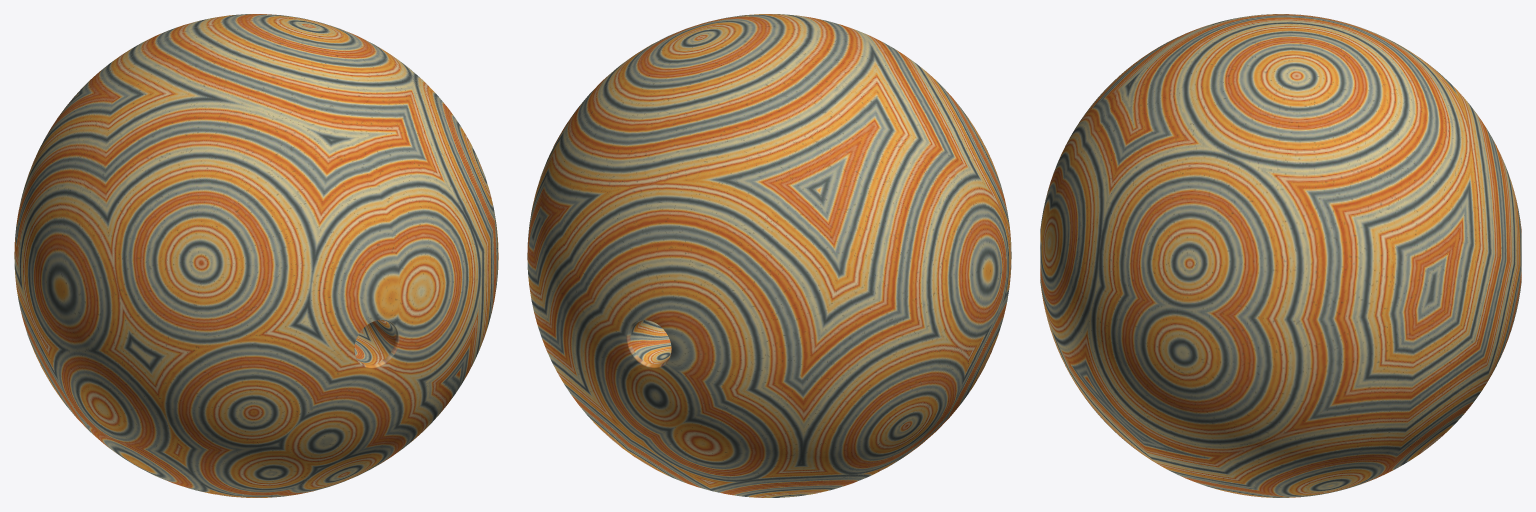
File: crazy-lace-agate-10mm.glb
3 renders of one model, left to right at view 1: azimuth 30°, elevation 25°; view 2: azimuth 150°, elevation 25°; view 3: azimuth 270°, elevation 25°, orthographic.
Visible parts, largest first — view 1: crazy-lace-agate.001; view 2: crazy-lace-agate.001; view 3: crazy-lace-agate.001.
Part boxes in pixels (bbox=[...]): crazy-lace-agate.001: bbox=[14, 14, 498, 497]; crazy-lace-agate.001: bbox=[527, 14, 1011, 497]; crazy-lace-agate.001: bbox=[1040, 14, 1521, 497].
Size of the model in its own units: 0.01 by 0.01 by 0.00994.
Materials: 1 (1 with a texture image).
